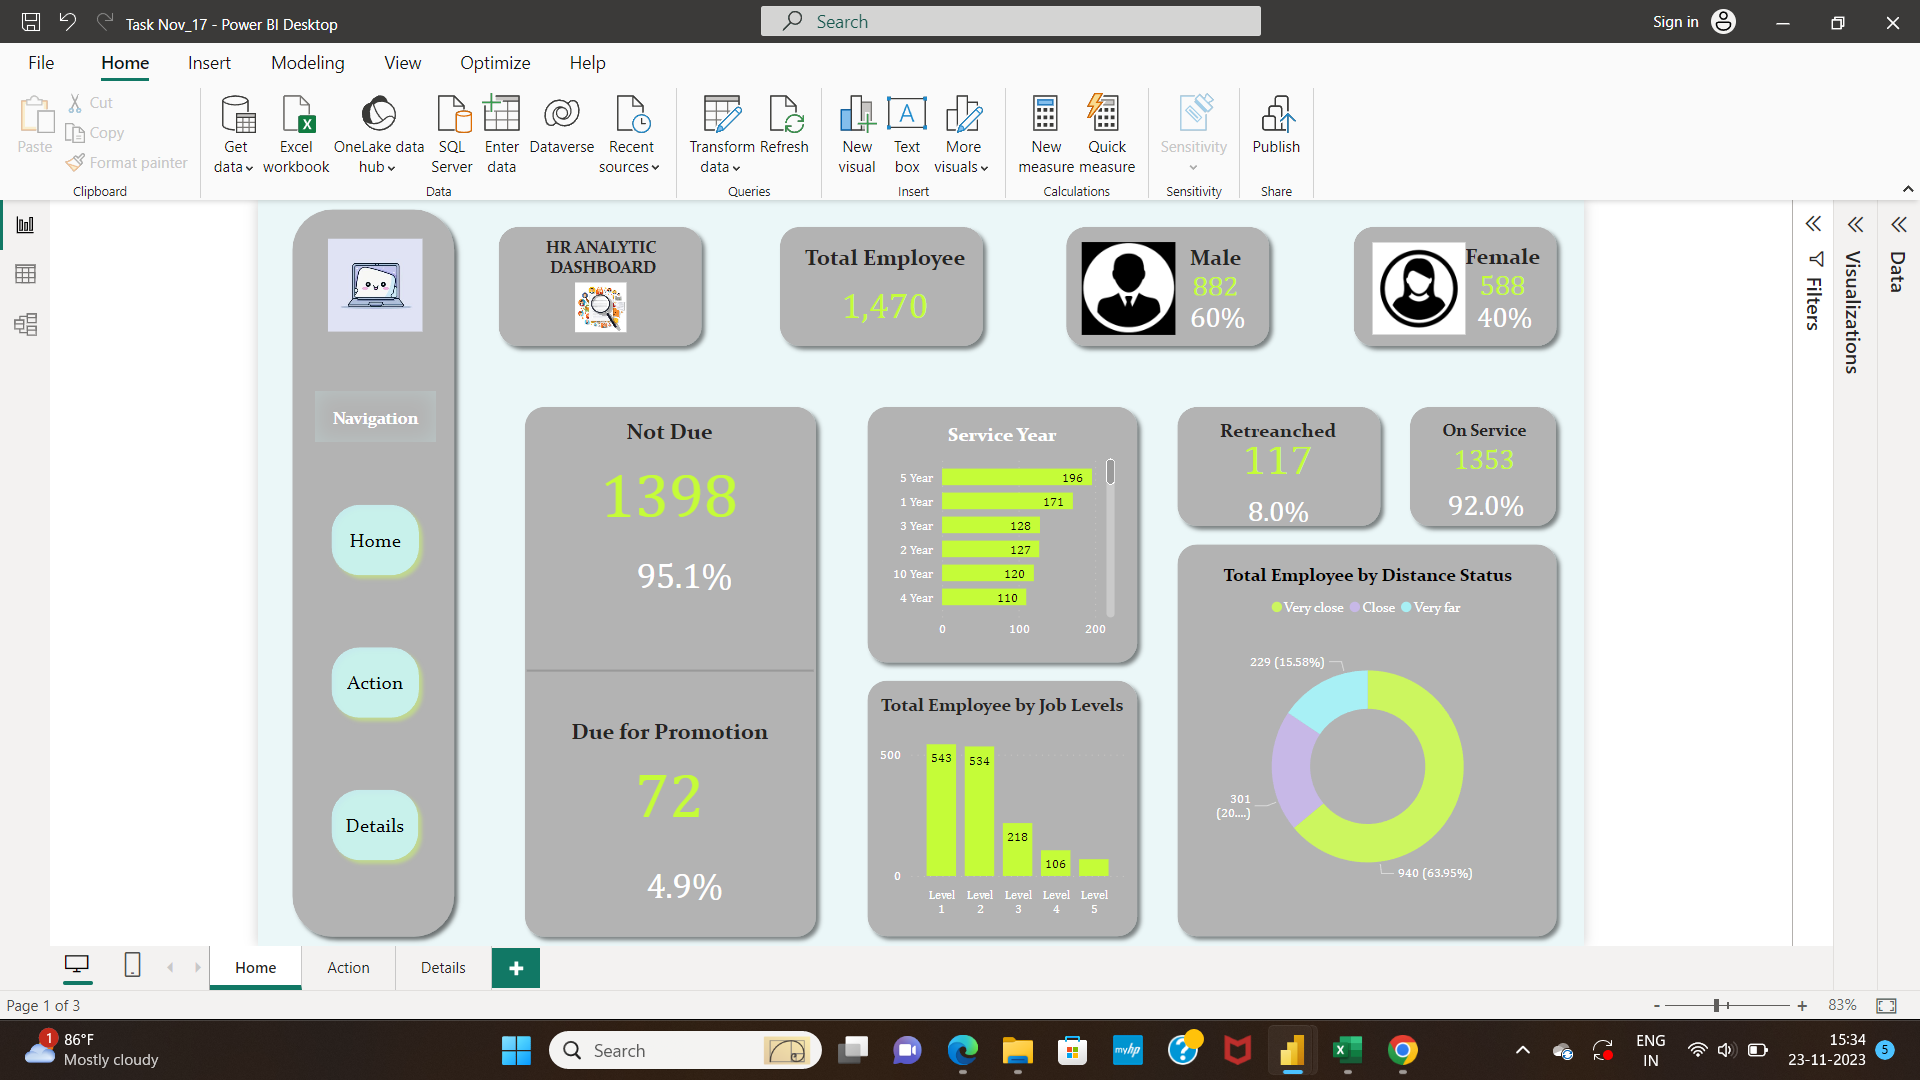

The dashboard page shown, as its layout file describes it:
{"tool":"powerbi","page":{"name":"Home","canvas":[1280,720],"ordinal":0},"visuals":[{"type":"shape","box":[24.7,0,174.1,719.8],"z":0},{"type":"shape","box":[248.2,190.6,298.9,529.2],"z":1000},{"type":"shape","box":[223.5,16.5,213.9,133],"z":2000},{"type":"shape","box":[578.6,190.6,278.3,264.6],"z":3000},{"type":"shape","box":[494.9,16.5,213.9,133],"z":4000},{"type":"shape","box":[578.6,455.2,278.3,264.6],"z":5000},{"type":"shape","box":[770.5,16.5,213.9,133],"z":6000},{"type":"shape","box":[877.5,190.6,213.9,133],"z":7000},{"type":"shape","box":[1047.5,16.5,213.9,133],"z":8000},{"type":"shape","box":[1102.3,190.6,159,133],"z":9000},{"type":"shape","box":[877.5,323.6,383.9,396.2],"z":10000},{"type":"textbox","box":[237.2,31.5,190.6,65.8],"z":11000},{"type":"image","box":[300,75,60,58],"z":12000},{"type":"card","title":"Total Employee","fields":{"Values":["new measures.Total Emp"]},"box":[512,34,185,98],"z":13000},{"type":"card","title":"Male","fields":{"Values":["new measures.Male"]},"box":[877.5,34.3,91.9,63.1],"z":14000},{"type":"card","title":"Female","fields":{"Values":["new measures.Female"]},"box":[1154.4,32.9,93.2,64.4],"z":15000},{"type":"card","title":"Female","fields":{"Values":["new measures.% Female"]},"box":[1154.4,79.5,97.3,64.4],"z":16000},{"type":"card","title":"Male","fields":{"Values":["new measures.% male"]},"box":[877.5,79.5,96,64.4],"z":17000},{"type":"image","box":[790,35,100,100],"z":18000},{"type":"image","box":[1069.4,35.6,100.1,98.7],"z":19000},{"type":"donutChart","title":"Total Employee by Distance Status","fields":{"Y":["new measures.Total Employee"],"Category":["Sheet1.Distance Status"]},"box":[915,351,311,340],"z":20000},{"type":"columnChart","title":"Total Employee by Job Levels","fields":{"Y":["new measures.Total Employee"],"Category":["Sheet1.Job Levels"]},"box":[595,476,247,223],"z":21000},{"type":"card","title":"Not Due","fields":{"Values":["new measures.Not due"]},"box":[274.2,211.1,246.8,112.4],"z":22000},{"type":"card","fields":{"Values":["new measures.% Not due"]},"box":[287.9,324.9,246.8,75.4],"z":23000},{"type":"card","title":"Due for Promotion","fields":{"Values":["new measures.Due for promotion"]},"box":[274.2,500.4,246.8,112.4],"z":24000},{"type":"card","fields":{"Values":["new measures.% Due for promotion"]},"box":[287.9,623.8,246.8,75.4],"z":25000},{"type":"shape","box":[259.1,304.4,277,300.3],"z":26000},{"type":"barChart","title":"Service Year","fields":{"Category":["Sheet1.Service Year"],"Y":["new measures.Total Employee"]},"box":[604.6,215.3,227.6,215.3],"z":27000},{"type":"card","title":"Female","fields":{"Values":["new measures.% On service"]},"box":[1136.1,267.7,97.7,49.4],"z":28000},{"type":"card","title":"Retreanched","fields":{"Values":["new measures.Retreanchment Status"]},"box":[890.1,211.1,188.1,73.6],"z":29000},{"type":"card","title":"On Service","fields":{"Values":["new measures.On service"]},"box":[1136.1,203.8,94.1,63.9],"z":30000},{"type":"card","title":"Female","fields":{"Values":["new measures.% Will be retreanched"]},"box":[935.9,273.8,97.7,49.4],"z":31000},{"type":"image","box":[62.8,32.7,100.8,99.4],"z":32000},{"type":"actionButton","box":[62.8,286.4,100.8,84.5],"z":33000},{"type":"actionButton","box":[62.8,423.5,100.8,84.5],"z":34000},{"type":"actionButton","box":[63.1,560.6,100.1,84.4],"z":35000},{"type":"textbox","box":[55.3,184.8,115.8,49],"z":36000}]}

Visuals, with their boxes on the page's 1280x720 design canvas (x1, y1, x2, y2). These are canvas units, not pixel positions in the 1920x1080 screenshot, which may show the page scaled, cropped or inside an application window:
shape: (left=25, top=0, right=199, bottom=720)
shape: (left=248, top=191, right=547, bottom=720)
shape: (left=224, top=16, right=437, bottom=150)
shape: (left=579, top=191, right=857, bottom=455)
shape: (left=495, top=16, right=709, bottom=150)
shape: (left=579, top=455, right=857, bottom=720)
shape: (left=770, top=16, right=984, bottom=150)
shape: (left=878, top=191, right=1091, bottom=324)
shape: (left=1048, top=16, right=1261, bottom=150)
shape: (left=1102, top=191, right=1261, bottom=324)
shape: (left=878, top=324, right=1261, bottom=720)
textbox: (left=237, top=32, right=428, bottom=97)
image: (left=300, top=75, right=360, bottom=133)
"Total Employee" card: (left=512, top=34, right=697, bottom=132)
"Male" card: (left=878, top=34, right=969, bottom=97)
"Female" card: (left=1154, top=33, right=1248, bottom=97)
"Female" card: (left=1154, top=80, right=1252, bottom=144)
"Male" card: (left=878, top=80, right=974, bottom=144)
image: (left=790, top=35, right=890, bottom=135)
image: (left=1069, top=36, right=1170, bottom=134)
"Total Employee by Distance Status" donutChart: (left=915, top=351, right=1226, bottom=691)
"Total Employee by Job Levels" columnChart: (left=595, top=476, right=842, bottom=699)
"Not Due" card: (left=274, top=211, right=521, bottom=324)
card - new measures.% Not due: (left=288, top=325, right=535, bottom=400)
"Due for Promotion" card: (left=274, top=500, right=521, bottom=613)
card - new measures.% Due for promotion: (left=288, top=624, right=535, bottom=699)
shape: (left=259, top=304, right=536, bottom=605)
"Service Year" barChart: (left=605, top=215, right=832, bottom=431)
"Female" card: (left=1136, top=268, right=1234, bottom=317)
"Retreanched" card: (left=890, top=211, right=1078, bottom=285)
"On Service" card: (left=1136, top=204, right=1230, bottom=268)
"Female" card: (left=936, top=274, right=1034, bottom=323)
image: (left=63, top=33, right=164, bottom=132)
actionButton: (left=63, top=286, right=164, bottom=371)
actionButton: (left=63, top=424, right=164, bottom=508)
actionButton: (left=63, top=561, right=163, bottom=645)
textbox: (left=55, top=185, right=171, bottom=234)
